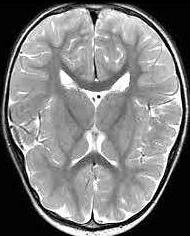Normal_Brain: (9, 10, 190, 236)
